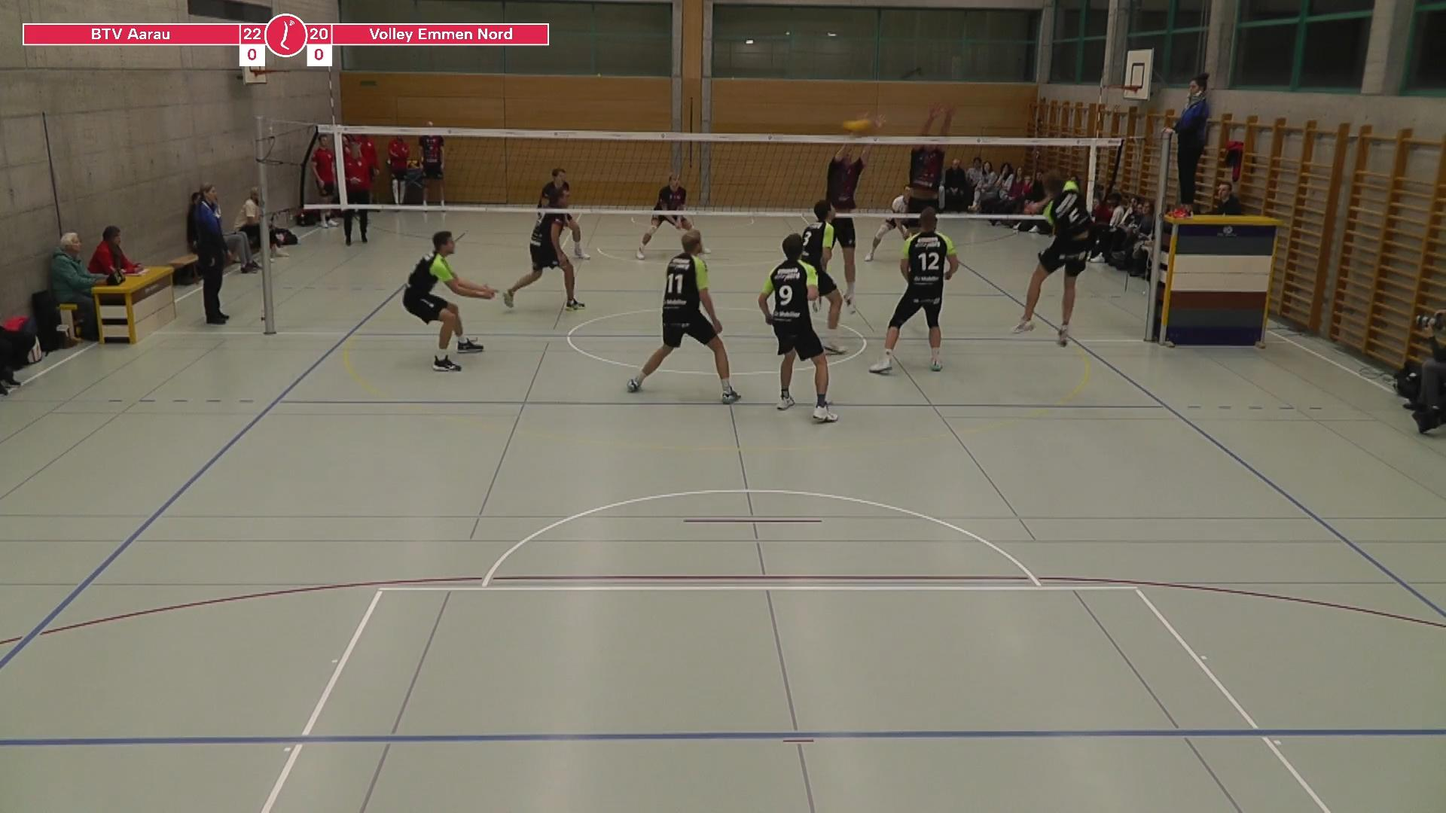attacco: (1010, 169, 1099, 351)
muro: (811, 116, 874, 299), (891, 98, 961, 252)
